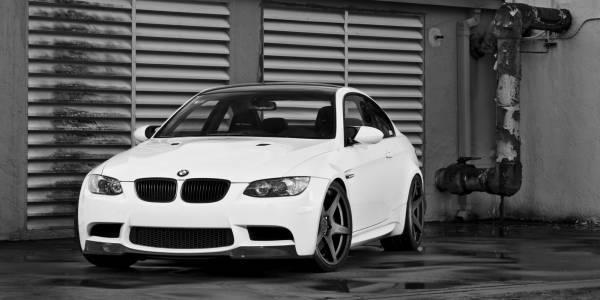car: (69, 79, 430, 276)
